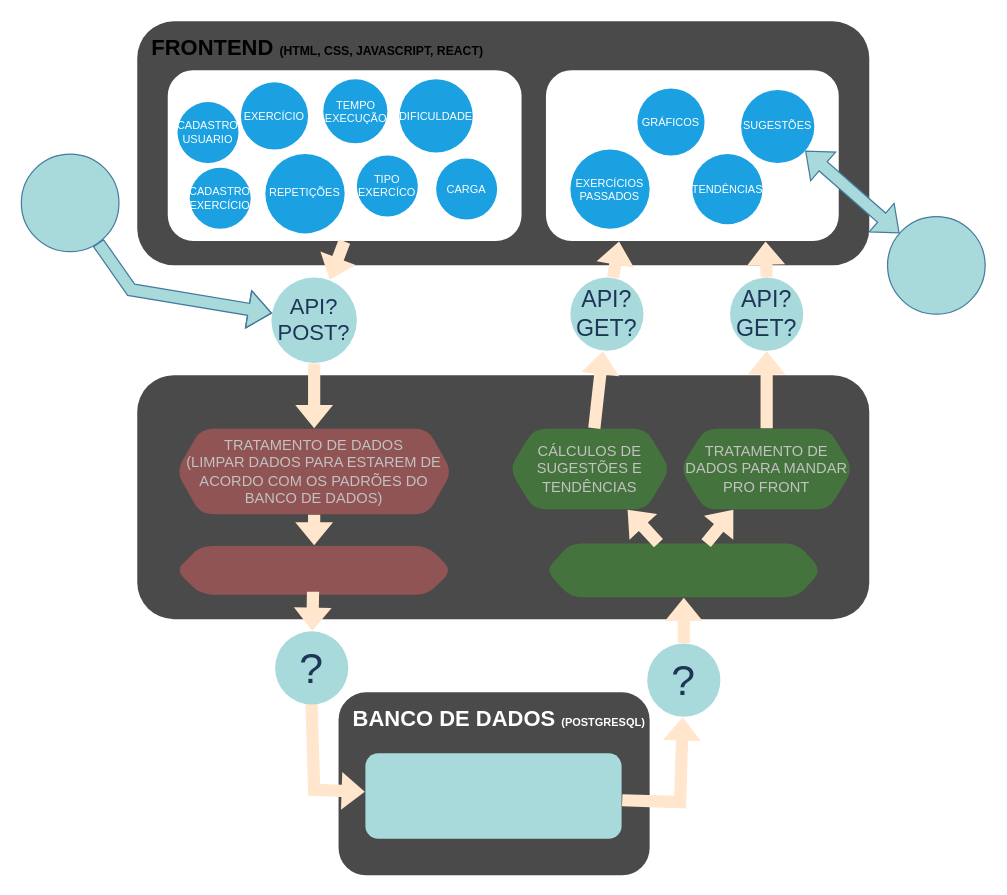
The diagram is 1007 pixels wide and 895 high, and some of its shapes have lost their labels. Each missing label, with the box of its shape:
BACKEND (JAVA): (137, 375, 869, 619)
DADOS: (365, 753, 621, 838)
EXIBIR: (545, 70, 838, 240)
IA?: (886, 215, 985, 314)
INSERIR: (167, 70, 521, 240)
MÉTODOS PARA INSERIR (INSERT) NO BANCO DE DADOS: (176, 545, 451, 594)
MÉTODOS PARA PEGAR (SELECT) DADOS: (545, 543, 821, 597)
SMART WATCH: (20, 153, 119, 252)
